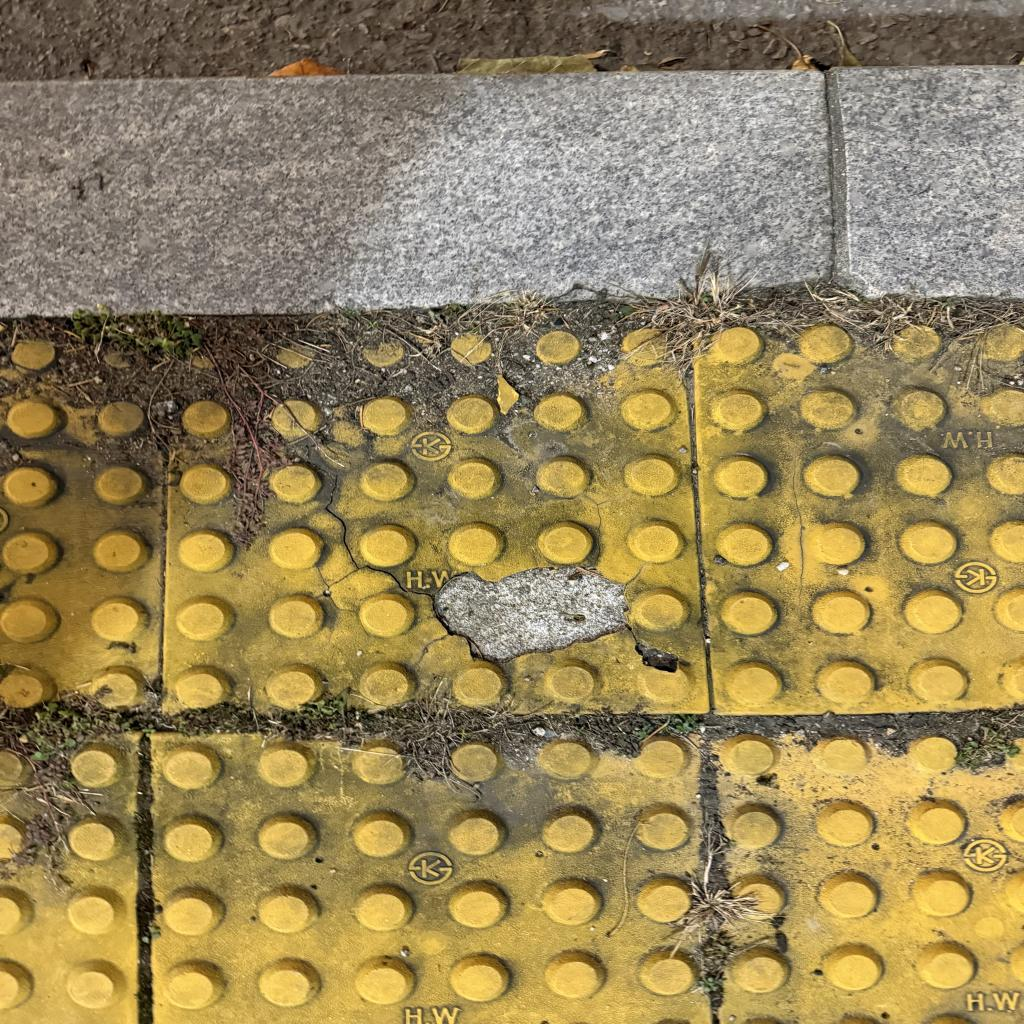Stop block broken: (172, 328, 690, 715)
